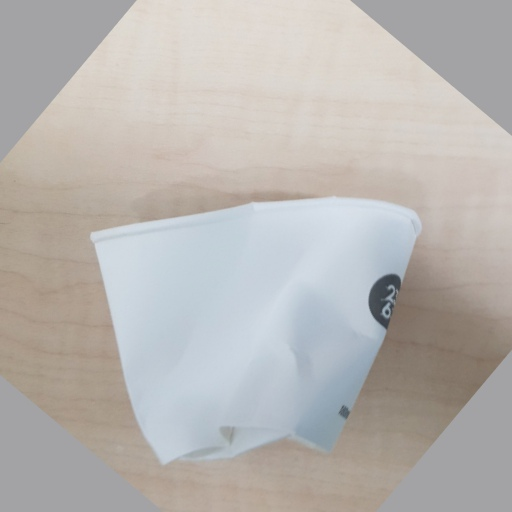Paper_1: (88, 195, 426, 465)
